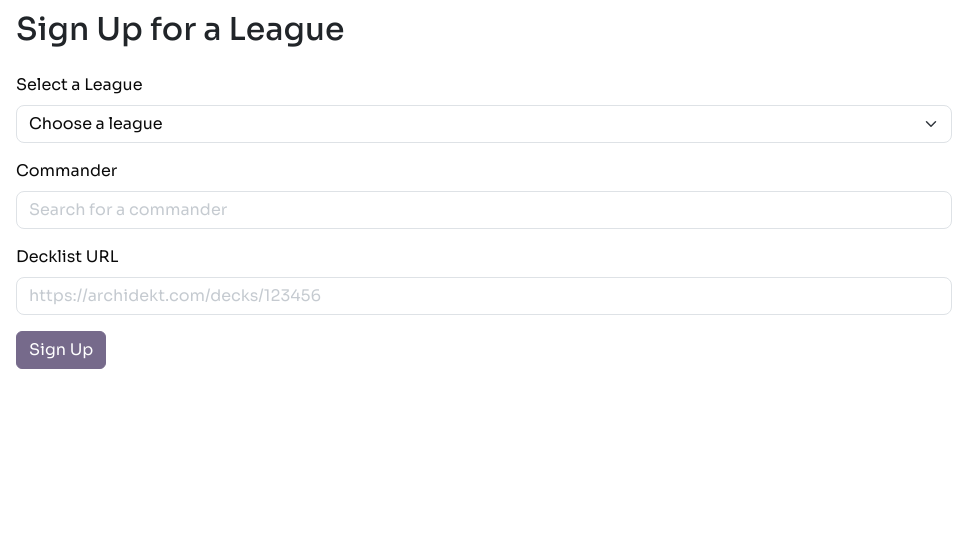
it: SignUp › Decklist URL validation › should display validation error when deck validation fails
This screenshot has width=969, height=533.
Select "Summer League 2024" in the dropdown labelled "Select a League" at (484, 124), box [16,105,952,143]
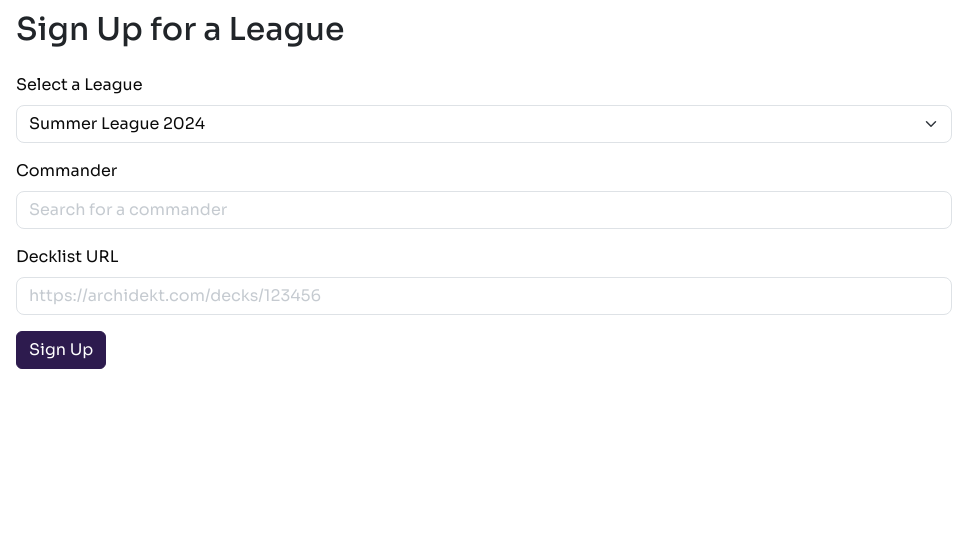
Type "Kenrith" into the field labelled "Commander" at (484, 210), box [16,191,952,229]
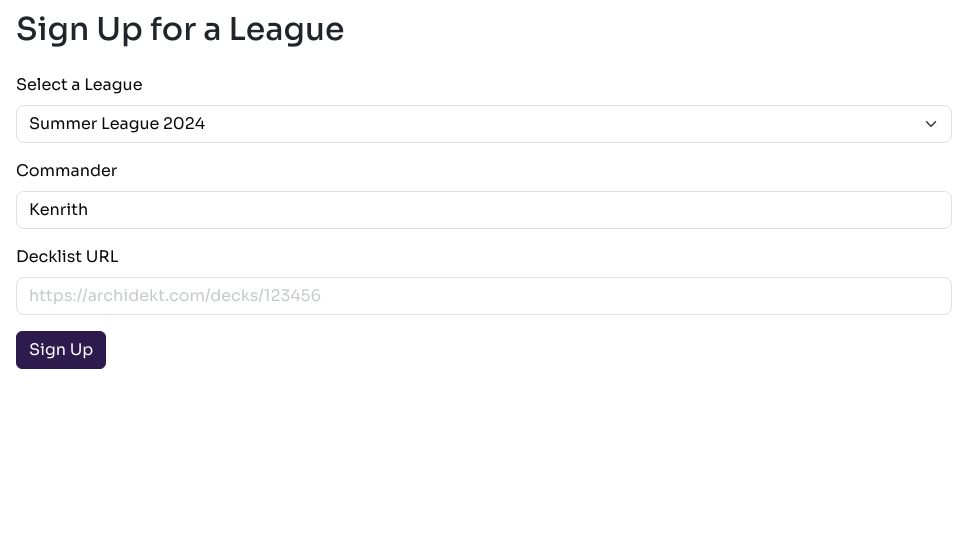
Type "invalid-url" into the field labelled "Decklist URL" at (484, 296), box [16,277,952,315]
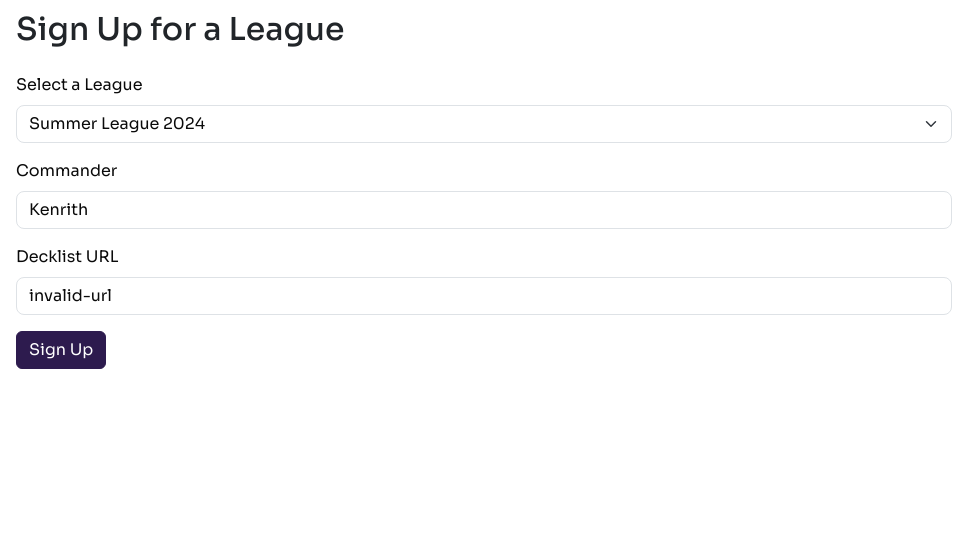
Submit the form from the button "Sign Up", box [16,331,106,369]
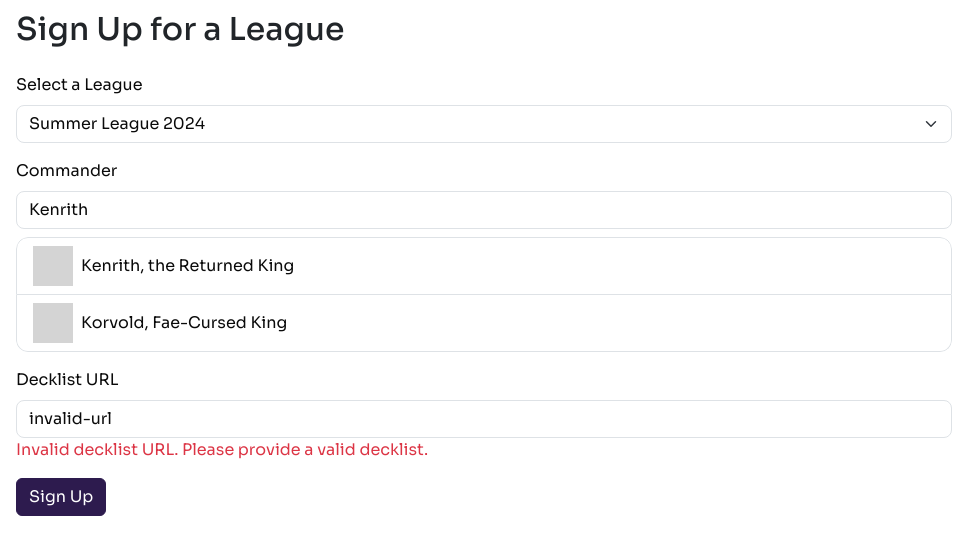
Expected: the text "Invalid decklist URL. Please provide a valid decklist." is shown, [16,439,428,460]
